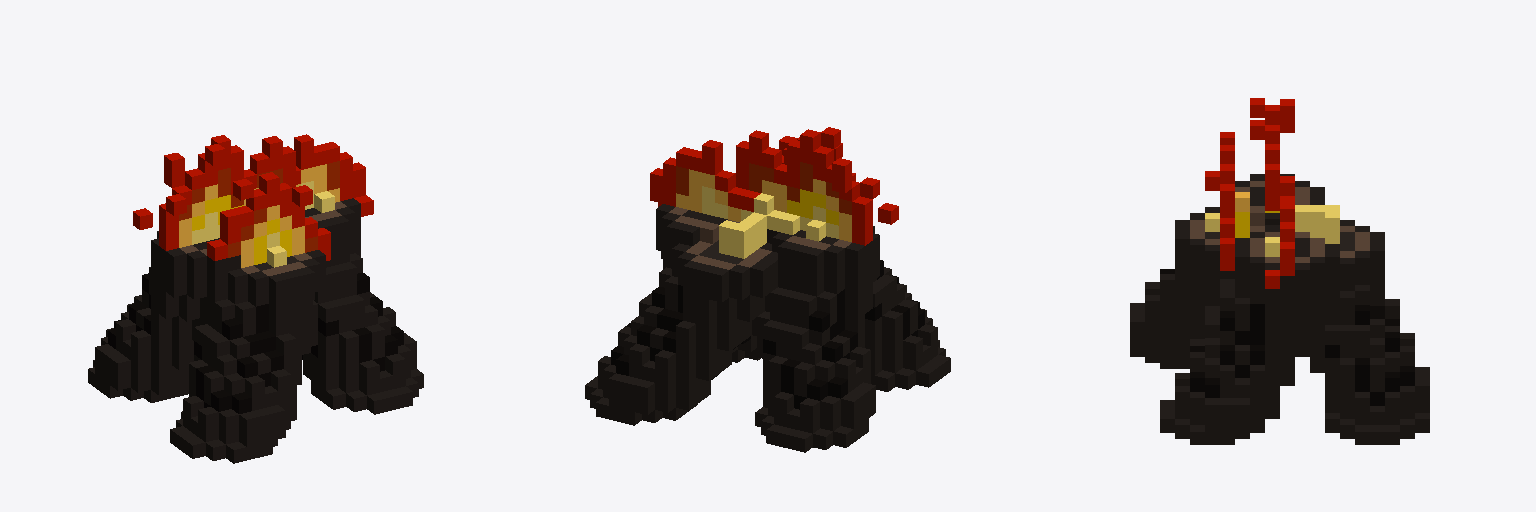
The picture shows the model from 3 angles: view 1: azimuth 30°, elevation 25°; view 2: azimuth 150°, elevation 25°; view 3: azimuth 270°, elevation 25°; orthographic projection.
Bounding box in the file's own units: 19 × 19 × 20.
1 materials, 1 textured.